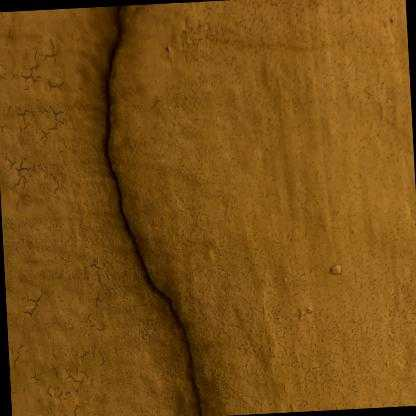crack: (103, 4, 202, 416)
